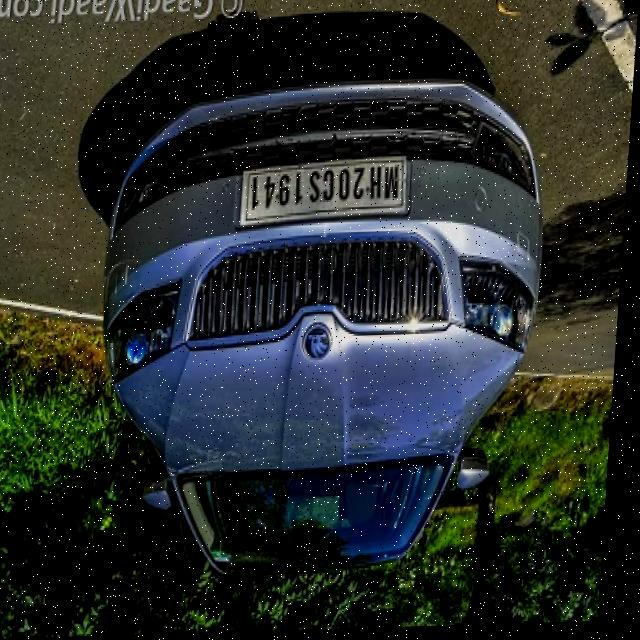plate: (239, 160, 412, 228)
